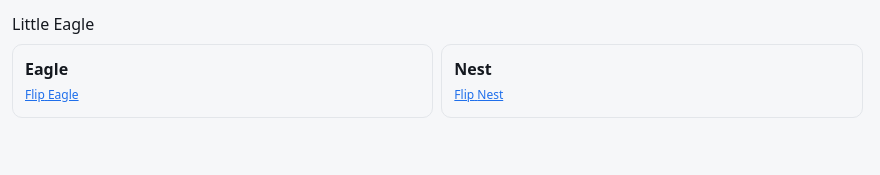
Test case: reading blocks › in a lesson, each card shows its word until the learner flips it
Expected: the text "a large bird" is not shown
Click the button "Flip Eagle": click(52, 95) top-left (25, 87), bottom-right (79, 103)
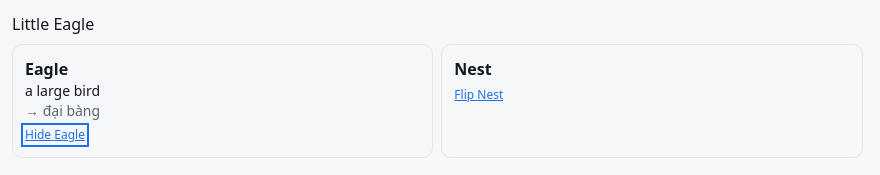
Expected: the text "a large bird" is shown, top-left (25, 81), bottom-right (100, 100)
Click the button "Hide Eagle": click(55, 135) top-left (25, 127), bottom-right (85, 143)
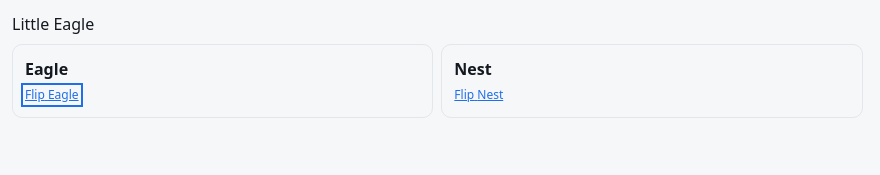
Expected: the text "a large bird" is gone
